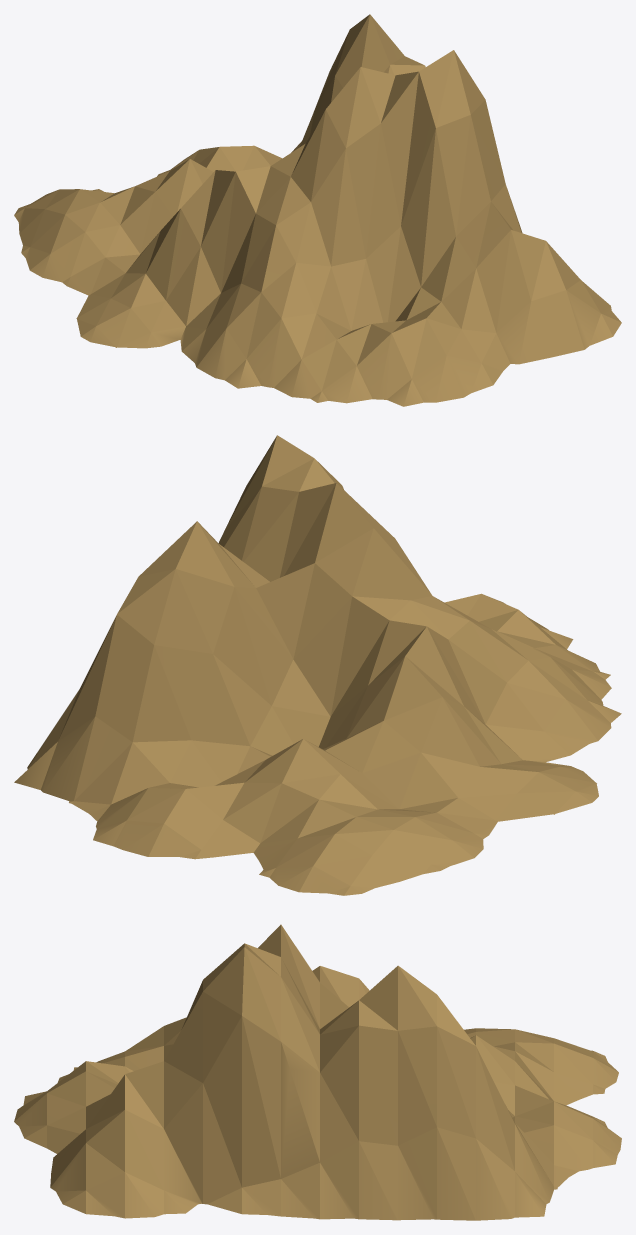
Rendered from Terrain_Mound_Uneven_Dirt_02.fbx.
3 views of the same model, one above another, from view 1: azimuth 30°, elevation 25°; view 2: azimuth 150°, elevation 25°; view 3: azimuth 270°, elevation 25° (orthographic). The views are drawn at different scales.
Visible parts, largest first — view 1: Terrain_Mound_Uneven_Dirt_02; view 2: Terrain_Mound_Uneven_Dirt_02; view 3: Terrain_Mound_Uneven_Dirt_02.
Boxes of the visible parts, box(x1,y1,x2,y2) form: Terrain_Mound_Uneven_Dirt_02: box(14, 14, 621, 406); Terrain_Mound_Uneven_Dirt_02: box(14, 435, 621, 895); Terrain_Mound_Uneven_Dirt_02: box(14, 924, 621, 1220).
Bounding box in the file's own units: 9475 × 4888 × 11876.
